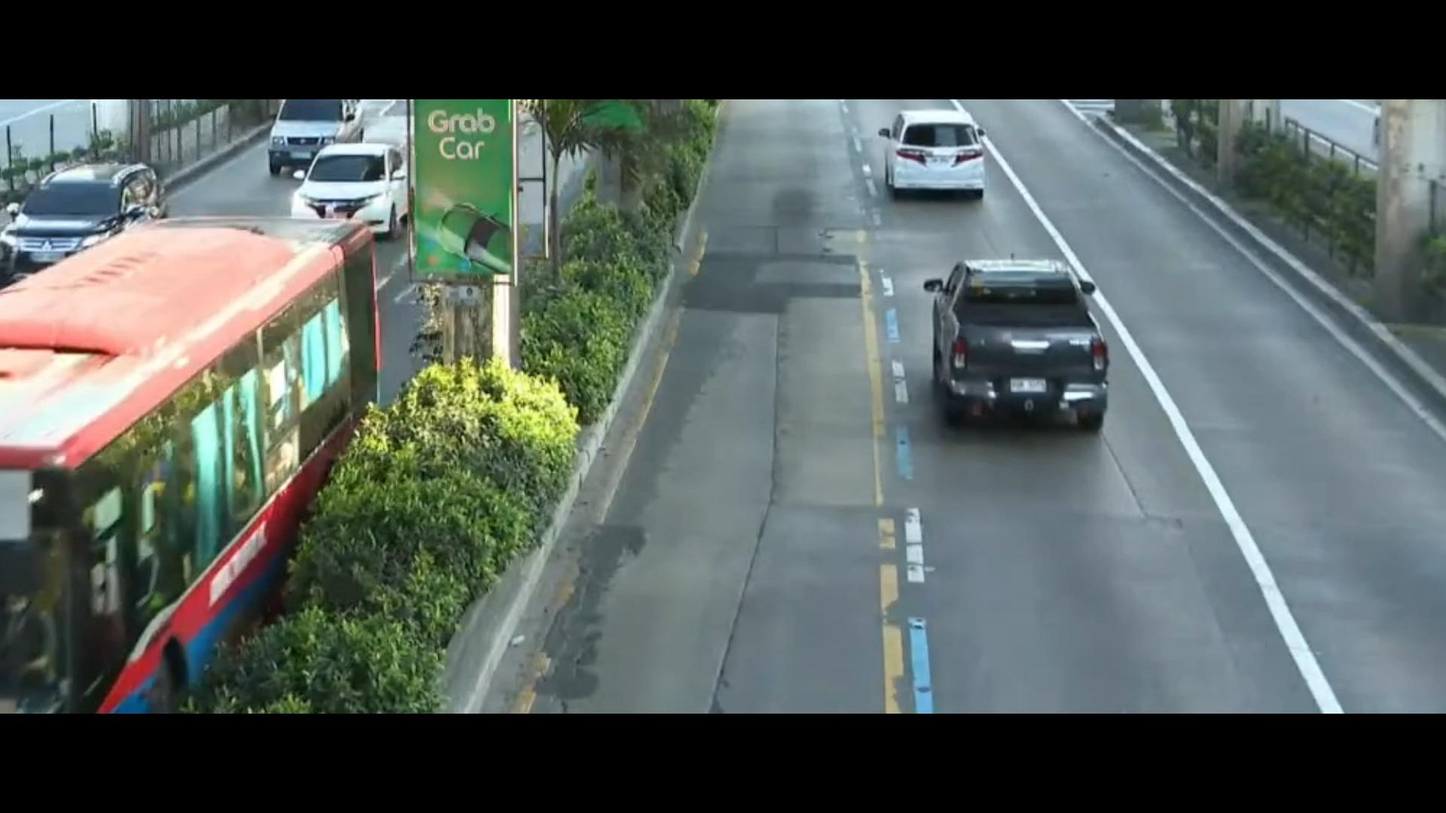Bus: (0, 216, 419, 712)
Pickup: (910, 247, 1134, 457)
SUV: (0, 151, 166, 286), (859, 104, 1016, 208)
Sedan: (266, 132, 426, 235)
